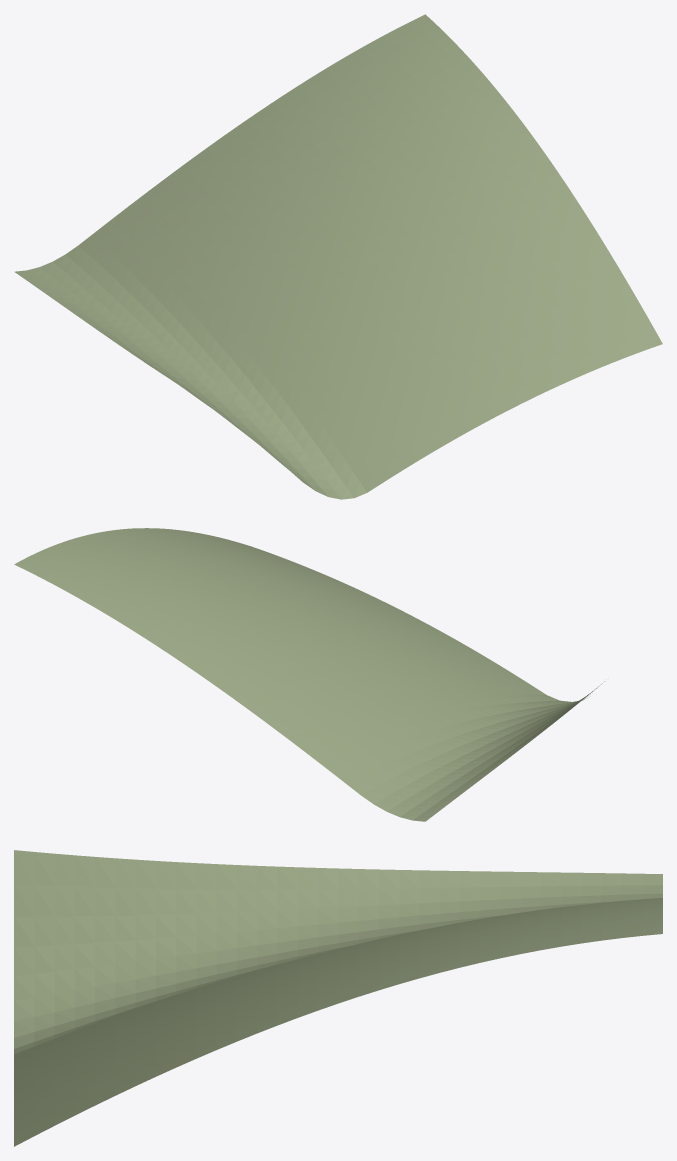
Rendered from alpine-13-10.glb.
3 views of the same model, one above another, from view 1: azimuth 30°, elevation 25°; view 2: azimuth 150°, elevation 25°; view 3: azimuth 270°, elevation 25° (orthographic). The views are drawn at different scales.
Visible parts, largest first — view 1: alpine-13-10; view 2: alpine-13-10; view 3: alpine-13-10.
Boxes of the visible parts, box(x1,y1,x2,y2) form: alpine-13-10: box(14, 14, 662, 499); alpine-13-10: box(14, 528, 604, 821); alpine-13-10: box(14, 850, 662, 1146).
Size of the model in its own units: 256 by 140 by 256.
